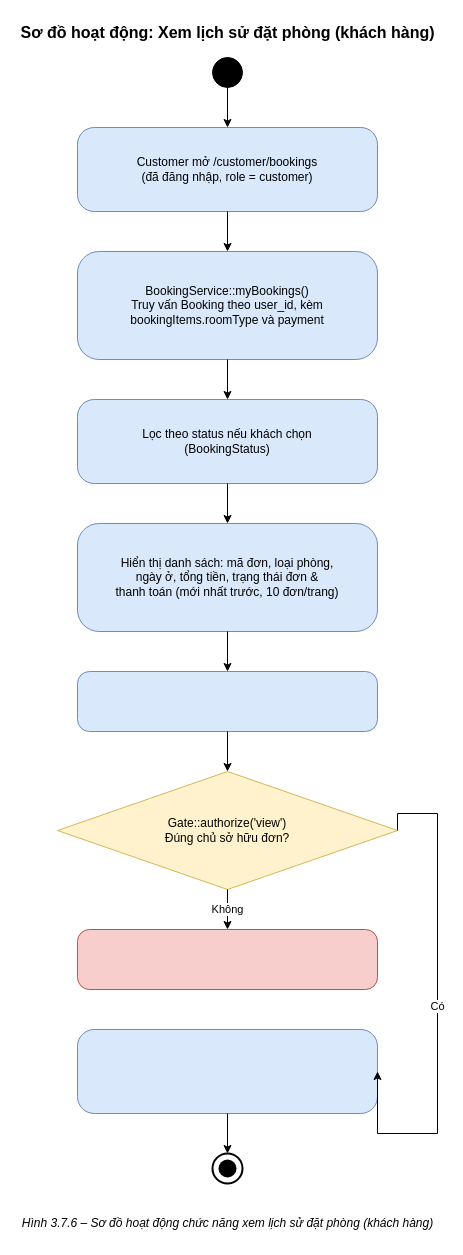
The diagram is 463 pixels wide and 1255 high, and some of its shapes have lost their labels. The shapes that lost their labels are listed below. From the top down, each one's box as (x1, y1, x2, y2) in pixels, then its label:
(76, 670, 378, 732): Chọn 1 đơn để xem chi tiết
(76, 928, 378, 990): Từ chối truy cập (403/404)
(76, 1028, 378, 1114): Xem /customer/bookings/{id} hoặc hoá đơn /invoice
